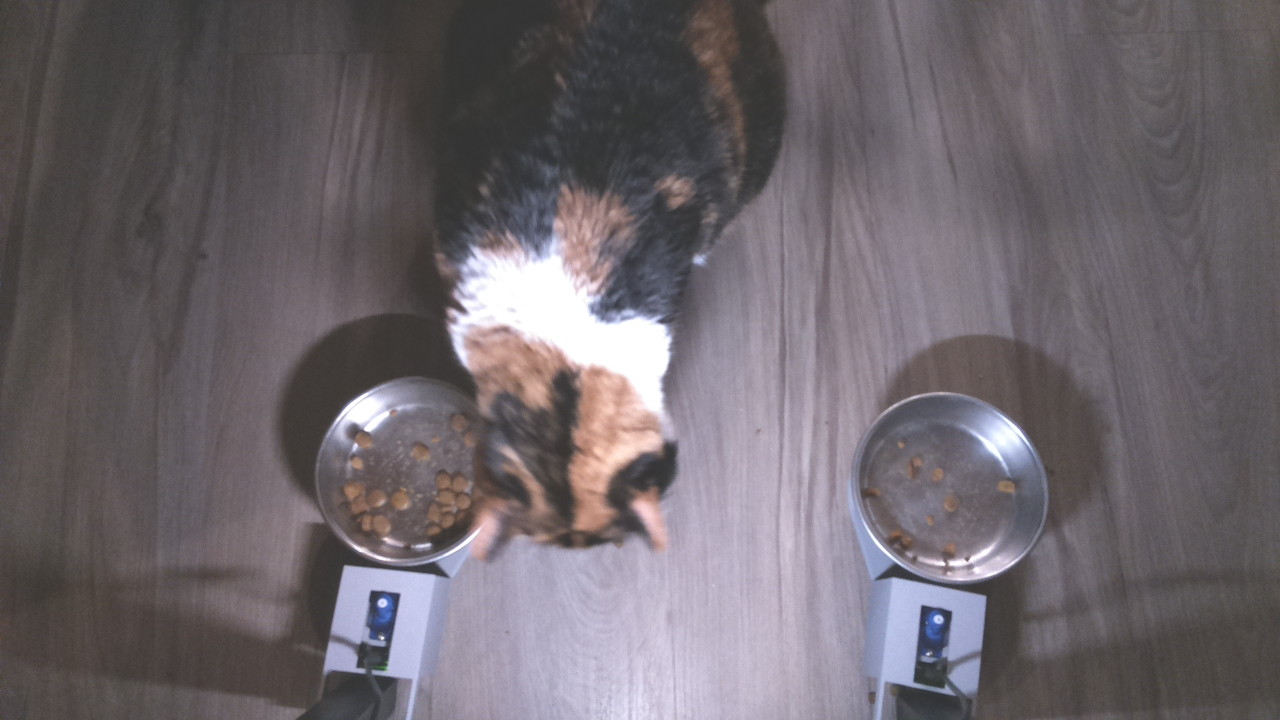bella: (445, 282, 685, 558)
open_bowl: (844, 383, 1050, 590), (314, 370, 486, 565)
